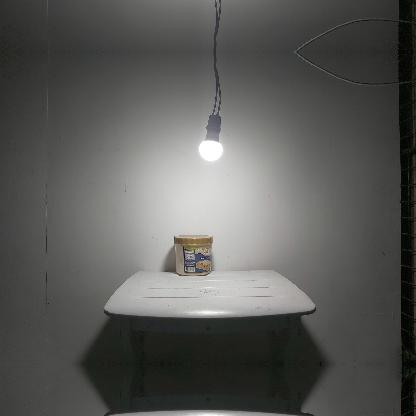Lady-s-Choice: (174, 235, 212, 276)
